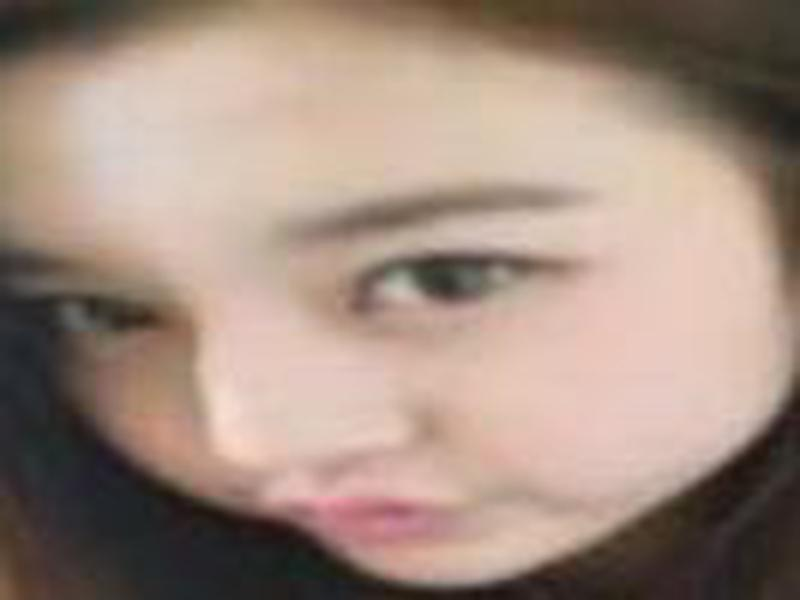without_mask: (6, 61, 789, 587)
